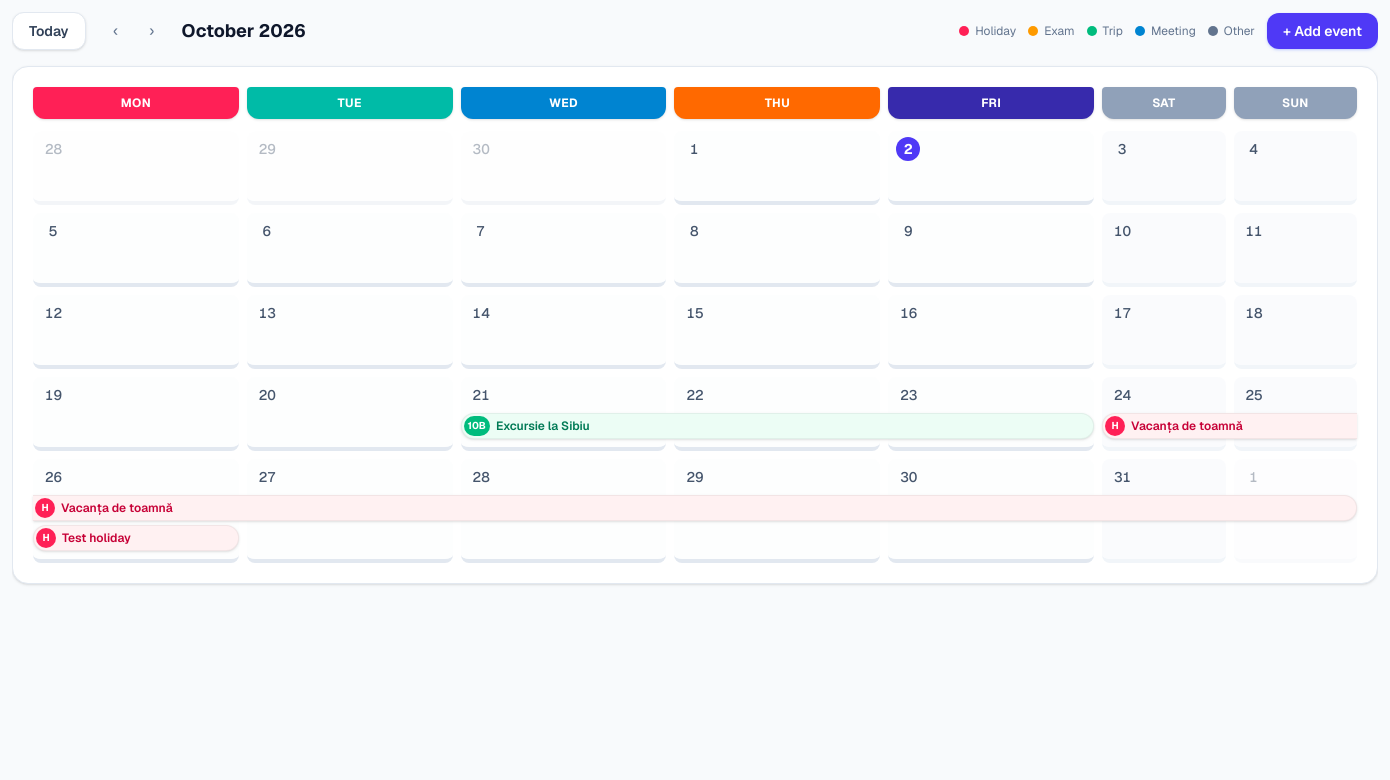
Test: SchoolCalendar › shows public holidays in the current language, without a delete button
Click the button "H Test holiday" at (136, 538), box [33,525,239,551]
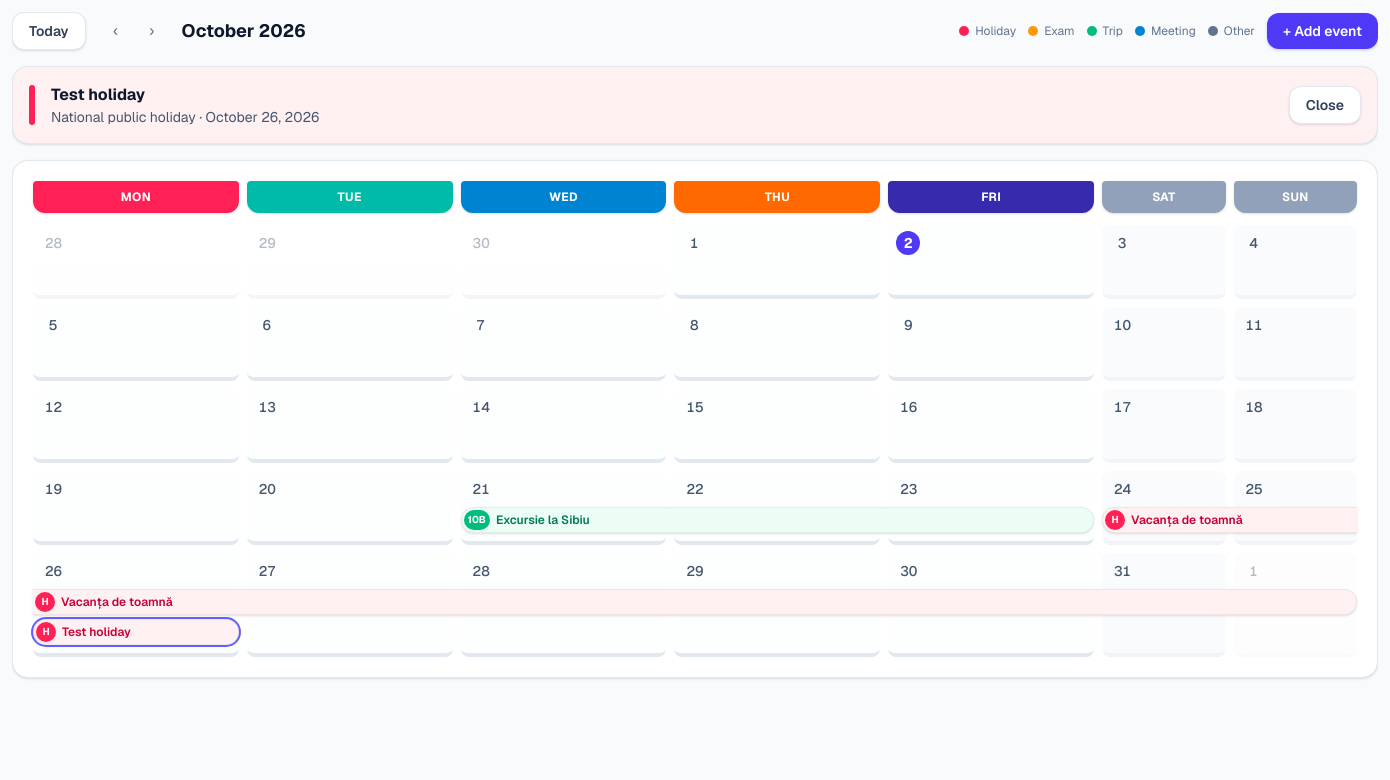
expect the text "National public holiday · October 26, 2026" is shown: met, box [51,107,319,127]
